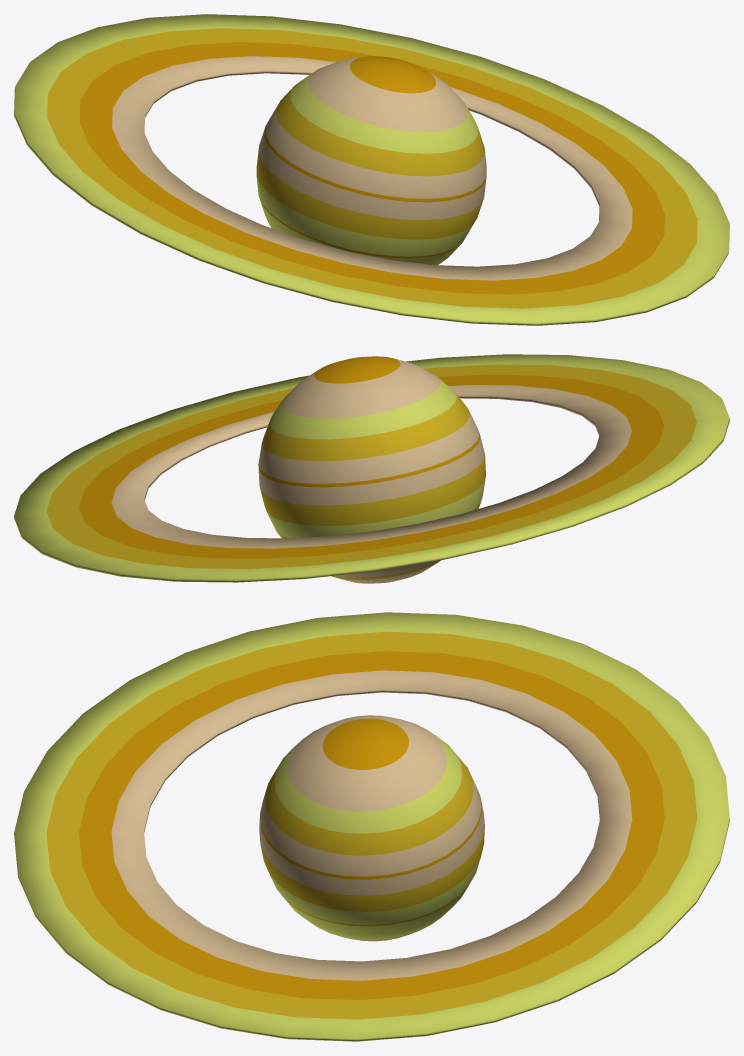
Rendered from Planet7.fbx.
3 renders of one model, top to bottom at view 1: azimuth 30°, elevation 25°; view 2: azimuth 150°, elevation 25°; view 3: azimuth 270°, elevation 25°, orthographic. The views are drawn at different scales.
Parts seen in each view (by area): view 1: Sphere; view 2: Sphere; view 3: Sphere.
Boxes of the visible parts, x1,y1,x2,y2 form: Sphere: (14, 14, 729, 325); Sphere: (14, 354, 729, 583); Sphere: (14, 612, 729, 1041).
Bounding box in the file's own units: 1809 × 582 × 1841.
